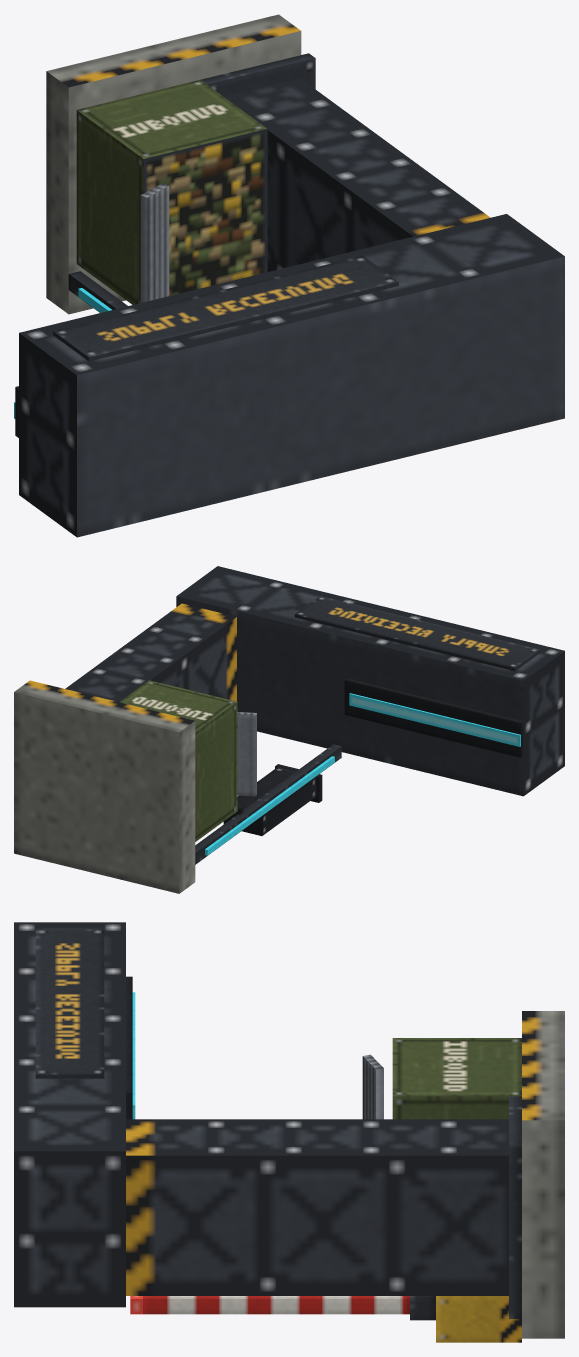
File: supply_receiving_gate_left.obj
3 renders of one model, top to bottom at view 1: azimuth 30°, elevation 25°; view 2: azimuth 150°, elevation 25°; view 3: azimuth 270°, elevation 25°, orthographic. The views are drawn at different scales.
Visible parts, largest first — view 1: supply_receiving_gate_left_Beam, supply_receiving_gate_left_Bin_1, supply_receiving_gate_left_Column_1, supply_receiving_gate_left_Footing_1, supply_receiving_gate_left_Title_1, supply_receiving_gate_left_Tip_chute_1, supply_receiving_gate_left_Column_plate_1, supply_receiving_gate_left_Scanner_post_1; view 2: supply_receiving_gate_left_Beam, supply_receiving_gate_left_Footing_1, supply_receiving_gate_left_Column_1, supply_receiving_gate_left_Bin_1, supply_receiving_gate_left_Title_1, supply_receiving_gate_left_Scanner_housing, supply_receiving_gate_left_Scanner_bar, supply_receiving_gate_left_Signal_head_1, supply_receiving_gate_left_Scanner_post_1, supply_receiving_gate_left_Tip_chute_1, supply_receiving_gate_left_Scanner_strip_1; view 3: supply_receiving_gate_left_Column_1, supply_receiving_gate_left_Beam, supply_receiving_gate_left_Footing_1, supply_receiving_gate_left_Title_1, supply_receiving_gate_left_Bin_1, supply_receiving_gate_left_Barrier_arm_1, supply_receiving_gate_left_Barrier_housing_1, supply_receiving_gate_left_Column_plate_1, supply_receiving_gate_left_Tip_chute_1, supply_receiving_gate_left_Scanner_housing, supply_receiving_gate_left_Barrier_pivot_1.
Part boxes in pixels (x1=…): supply_receiving_gate_left_Beam: x1=19, y1=214, x2=564, y2=537; supply_receiving_gate_left_Bin_1: x1=76, y1=79, x2=267, y2=304; supply_receiving_gate_left_Column_1: x1=224, y1=78, x2=490, y2=271; supply_receiving_gate_left_Footing_1: x1=46, y1=14, x2=301, y2=314; supply_receiving_gate_left_Title_1: x1=53, y1=256, x2=398, y2=361; supply_receiving_gate_left_Tip_chute_1: x1=140, y1=183, x2=169, y2=302; supply_receiving_gate_left_Column_plate_1: x1=201, y1=53, x2=315, y2=96; supply_receiving_gate_left_Scanner_post_1: x1=68, y1=271, x2=127, y2=312; supply_receiving_gate_left_Beam: x1=176, y1=566, x2=564, y2=796; supply_receiving_gate_left_Footing_1: x1=14, y1=680, x2=195, y2=893; supply_receiving_gate_left_Column_1: x1=65, y1=603, x2=236, y2=701; supply_receiving_gate_left_Bin_1: x1=119, y1=680, x2=237, y2=841; supply_receiving_gate_left_Title_1: x1=294, y1=596, x2=540, y2=670; supply_receiving_gate_left_Scanner_housing: x1=344, y1=678, x2=523, y2=757; supply_receiving_gate_left_Scanner_bar: x1=349, y1=693, x2=520, y2=746; supply_receiving_gate_left_Signal_head_1: x1=223, y1=767, x2=316, y2=835; supply_receiving_gate_left_Scanner_post_1: x1=195, y1=744, x2=341, y2=864; supply_receiving_gate_left_Tip_chute_1: x1=237, y1=712, x2=256, y2=796; supply_receiving_gate_left_Scanner_strip_1: x1=205, y1=756, x2=334, y2=855; supply_receiving_gate_left_Column_1: x1=126, y1=1119, x2=508, y2=1295; supply_receiving_gate_left_Beam: x1=14, y1=922, x2=125, y2=1307; supply_receiving_gate_left_Footing_1: x1=522, y1=1011, x2=564, y2=1338; supply_receiving_gate_left_Title_1: x1=35, y1=929, x2=104, y2=1078; supply_receiving_gate_left_Bin_1: x1=392, y1=1038, x2=521, y2=1119; supply_receiving_gate_left_Barrier_arm_1: x1=143, y1=1296, x2=409, y2=1314; supply_receiving_gate_left_Barrier_housing_1: x1=436, y1=1296, x2=521, y2=1342; supply_receiving_gate_left_Column_plate_1: x1=509, y1=1096, x2=521, y2=1318; supply_receiving_gate_left_Tip_chute_1: x1=362, y1=1054, x2=383, y2=1119; supply_receiving_gate_left_Scanner_housing: x1=126, y1=976, x2=132, y2=1119; supply_receiving_gate_left_Barrier_pivot_1: x1=410, y1=1296, x2=435, y2=1320.
Size of the model in its own units: 2 by 0.9219 by 2.
